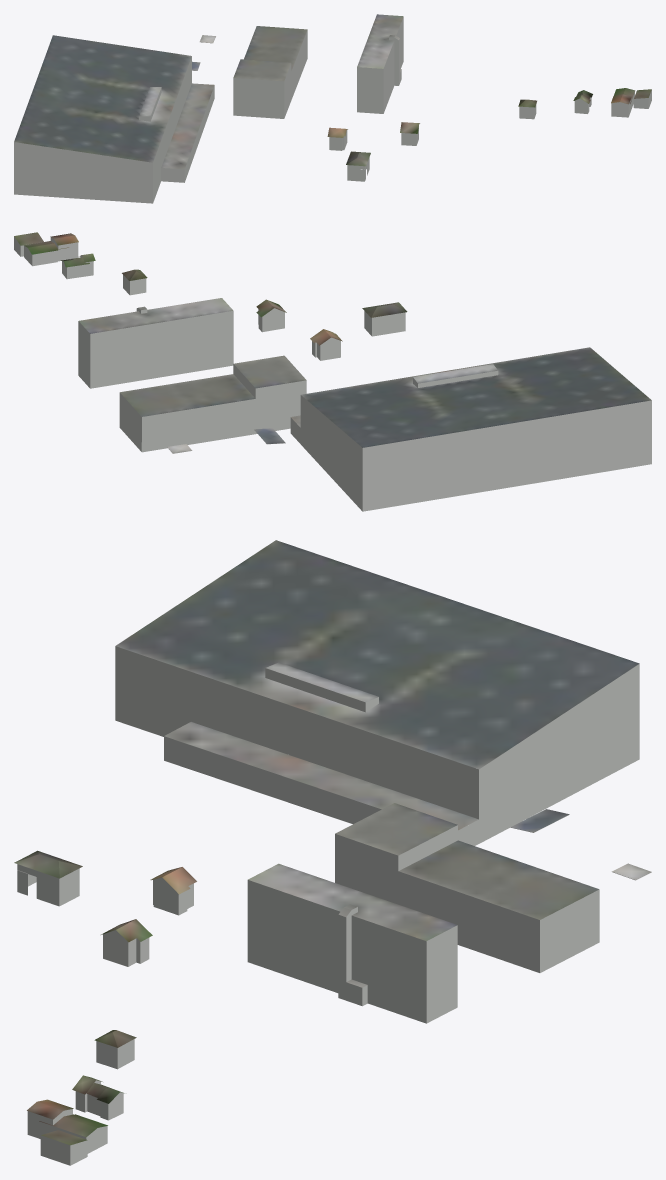
Rendered from LSGG_-2_-4.glb.
3 renders of one model, top to bottom at view 1: azimuth 30°, elevation 25°; view 2: azimuth 150°, elevation 25°; view 3: azimuth 270°, elevation 25°, orthographic. The views are drawn at different scales.
Visible parts, largest first — view 1: building_eaecb71db3d40396, building_16062a58528288de, building_f6cb424426022804, building_febc732d16b091ef, building_b26c7e2b82489485, building_1f6b87223f03d54c; view 2: building_16062a58528288de, building_eaecb71db3d40396, building_f6cb424426022804, building_b26c7e2b82489485, building_febc732d16b091ef, building_1f6b87223f03d54c; view 3: building_eaecb71db3d40396, building_16062a58528288de, building_f6cb424426022804, building_b26c7e2b82489485, building_febc732d16b091ef, building_1f6b87223f03d54c.
Part boxes in pixels (box(x1,y1,x2,y2)): building_eaecb71db3d40396: box(14, 35, 370, 169); building_16062a58528288de: box(14, 56, 369, 203); building_f6cb424426022804: box(357, 17, 651, 145); building_febc732d16b091ef: box(192, 26, 307, 81); building_b26c7e2b82489485: box(193, 30, 307, 118); building_1f6b87223f03d54c: box(357, 14, 651, 133); building_16062a58528288de: box(290, 311, 651, 511); building_eaecb71db3d40396: box(291, 302, 651, 447); building_f6cb424426022804: box(14, 236, 284, 388); building_b26c7e2b82489485: box(119, 364, 306, 453); building_febc732d16b091ef: box(120, 355, 306, 453); building_1f6b87223f03d54c: box(14, 232, 286, 333); building_eaecb71db3d40396: box(14, 540, 639, 894); building_16062a58528288de: box(17, 646, 639, 915); building_f6cb424426022804: box(27, 880, 457, 1165); building_b26c7e2b82489485: box(335, 814, 651, 972); building_febc732d16b091ef: box(335, 803, 651, 919); building_1f6b87223f03d54c: box(27, 863, 457, 1145).
Size of the model in its own units: 374 by 36.34 by 195.
Materials: 2 (1 with a texture image).
